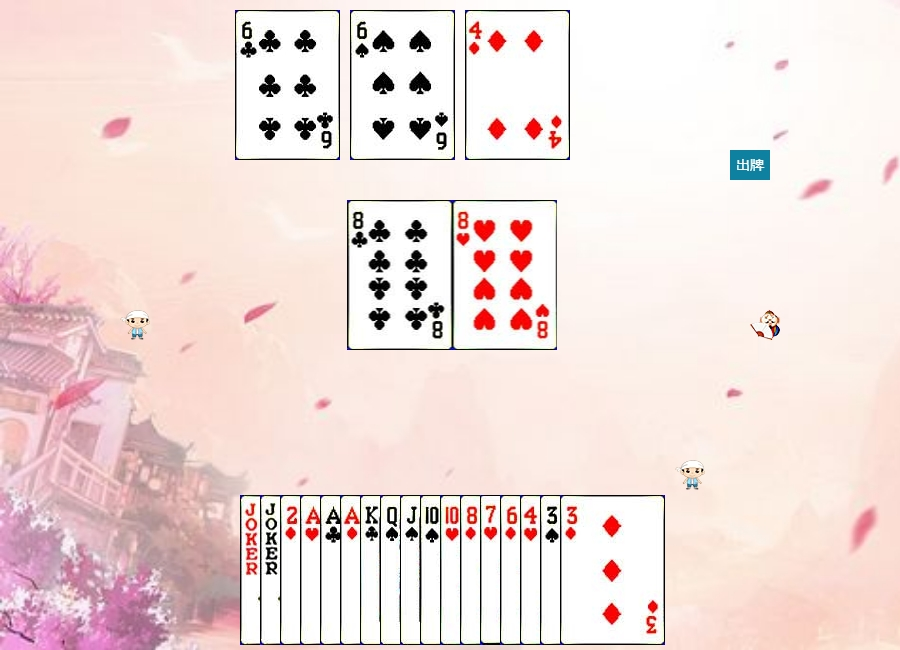10~3: (440, 495, 545, 645)
10~4: (420, 495, 525, 645)
11~4: (400, 495, 505, 645)
12~4: (380, 495, 485, 645)
13~2: (360, 495, 465, 645)
14~1: (340, 495, 445, 645)
14~2: (320, 495, 425, 645)
14~3: (300, 495, 405, 645)
15~1: (280, 495, 385, 645)
17~3: (260, 495, 365, 645)
18~4: (240, 495, 345, 645)
3~1: (560, 495, 665, 645)
3~4: (540, 495, 645, 645)
4~1: (465, 10, 570, 160)
4~3: (520, 495, 625, 645)
6~1: (500, 495, 605, 645)
6~2: (235, 10, 340, 160)
6~4: (350, 10, 455, 160)
7~3: (480, 495, 585, 645)
8~1: (460, 495, 565, 645)
8~2: (348, 200, 453, 350)
8~3: (453, 200, 558, 350)
